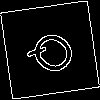Q: (25, 25, 87, 86)
